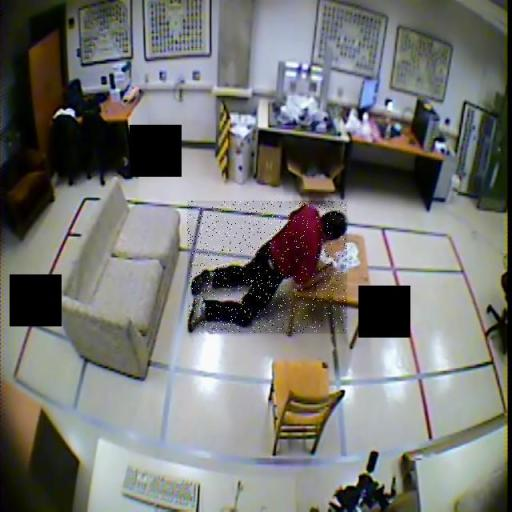Fall: (187, 201, 347, 334)
